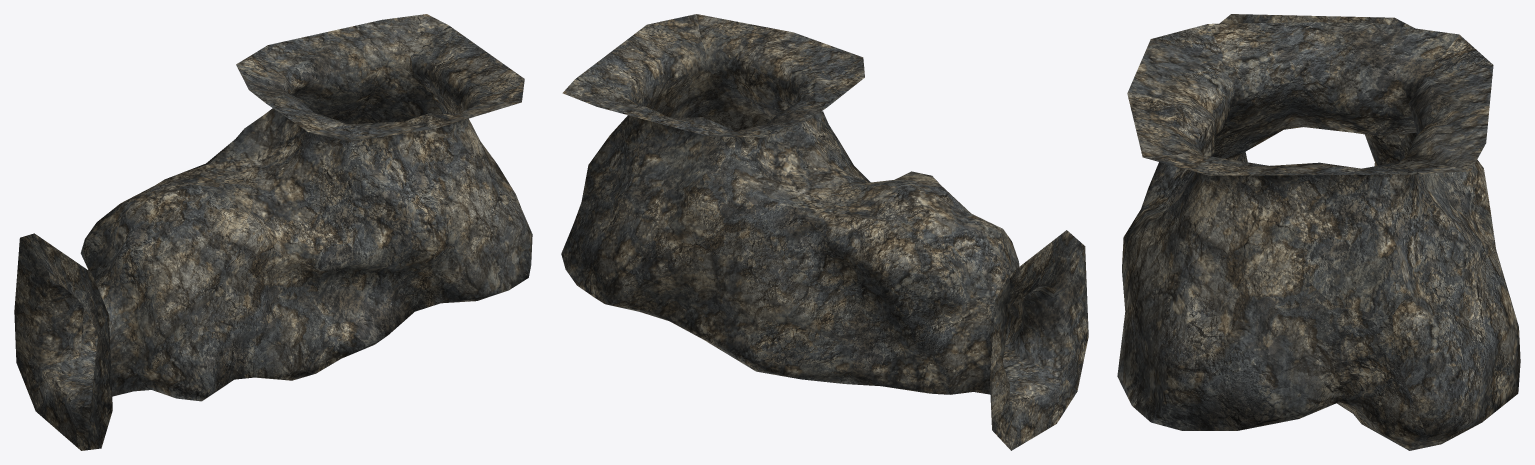
File: Module21A.fbx
The picture shows the model from 3 angles, left to right: view 1: azimuth 30°, elevation 25°; view 2: azimuth 150°, elevation 25°; view 3: azimuth 270°, elevation 25°; orthographic projection. The views are drawn at different scales.
Visible parts, largest first — view 1: cave_el21_1000_Group13576; view 2: cave_el21_1000_Group13576; view 3: cave_el21_1000_Group13576.
Boxes of the visible parts, left/top/right/bottom form: cave_el21_1000_Group13576: left=14, top=14, right=532, bottom=450; cave_el21_1000_Group13576: left=561, top=14, right=1088, bottom=450; cave_el21_1000_Group13576: left=1117, top=14, right=1520, bottom=450.
Size of the model in its own units: 20.96 by 12.88 by 11.67.
